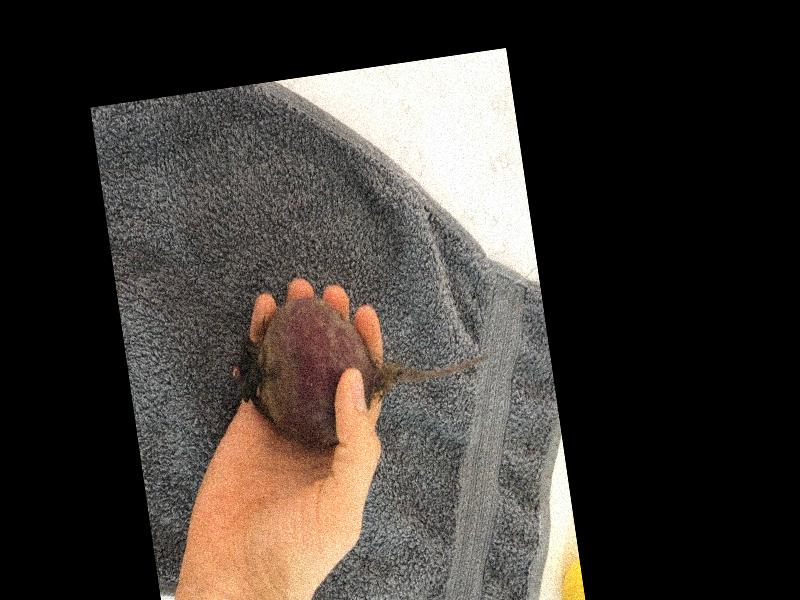Beet: (229, 271, 497, 458)
